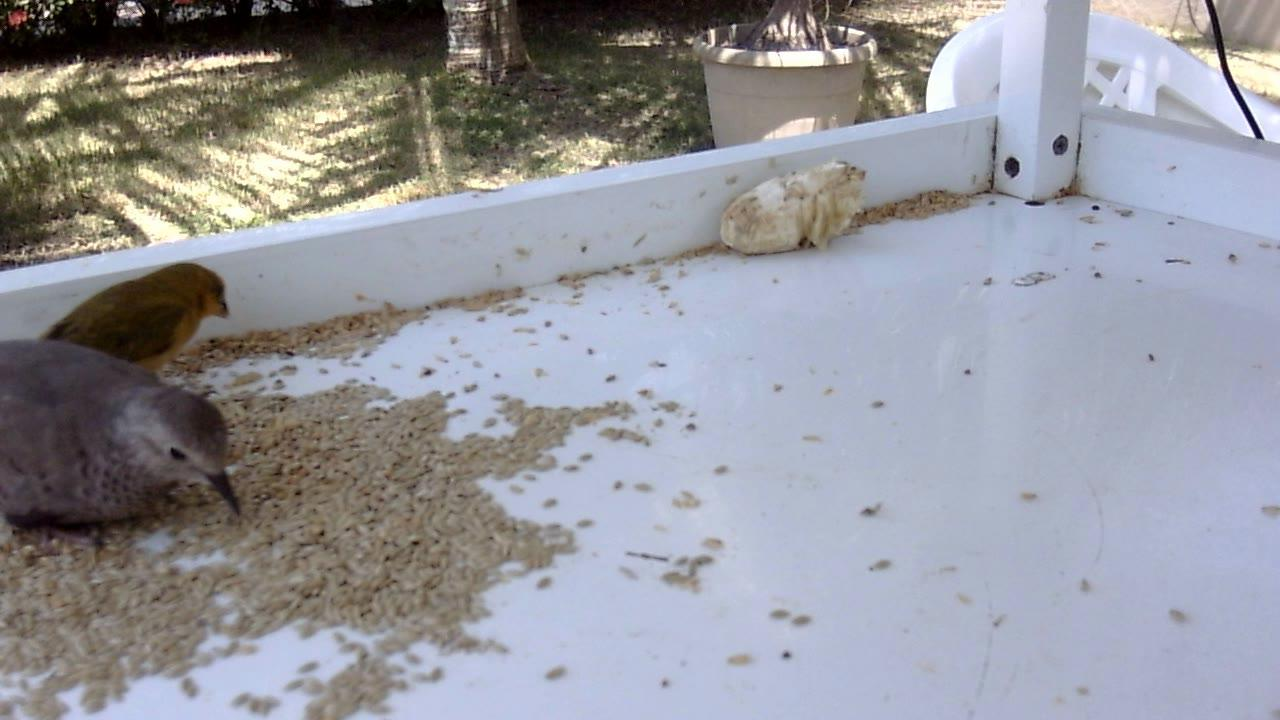canario_do_amazonas: (38, 259, 233, 372)
rolinha: (1, 339, 245, 556)
